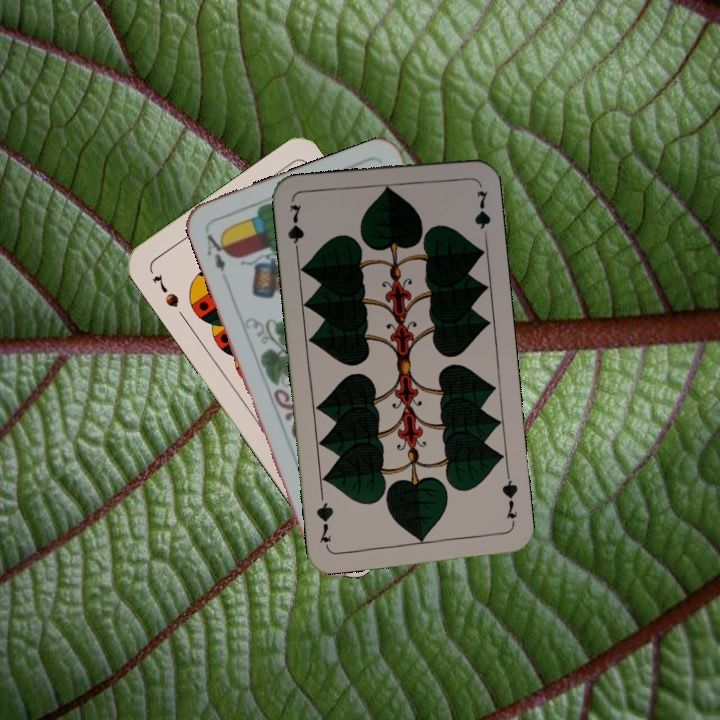EA: (202, 228, 232, 274)
G7: (283, 200, 307, 259), (498, 470, 521, 529)
S7: (148, 270, 182, 310)
